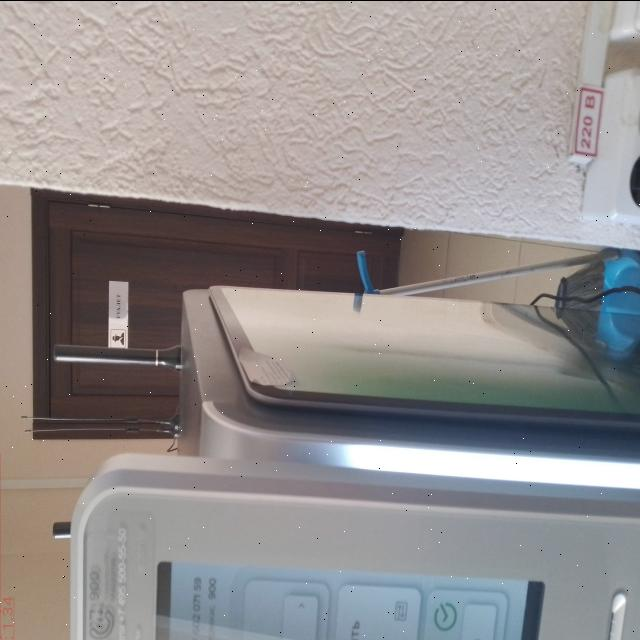bank: (67, 279, 640, 640)
